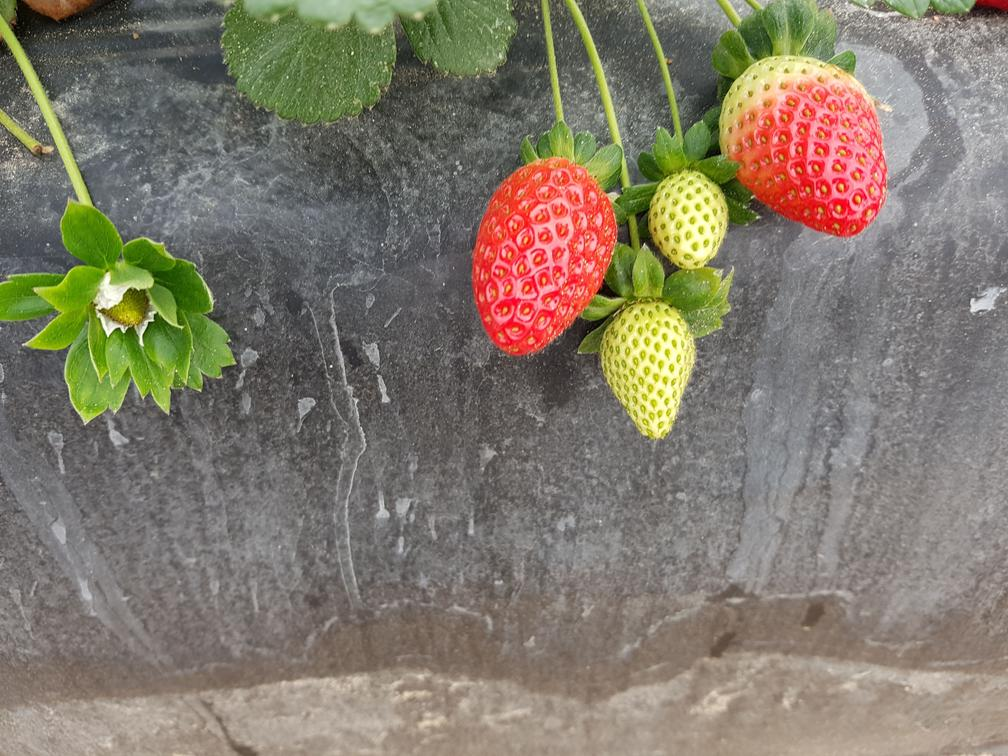Ripe: (465, 151, 620, 358), (722, 56, 889, 235)
Unripe: (595, 299, 702, 447), (650, 161, 733, 272)
